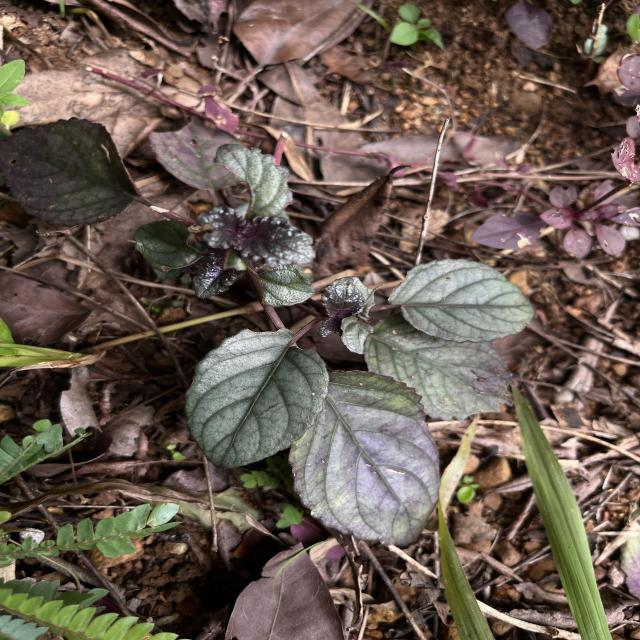Hemigraphis colorata: (288, 365, 442, 550), (182, 325, 330, 472), (361, 309, 520, 424), (1, 115, 141, 231), (391, 256, 536, 345)
